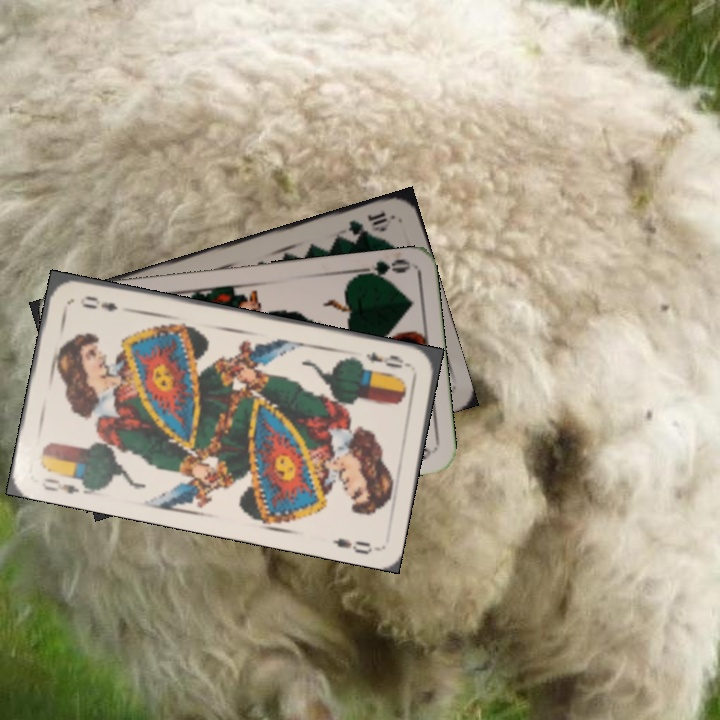EO: (37, 466, 93, 497), (362, 347, 414, 371)
G10: (344, 207, 390, 238)
GO: (351, 254, 411, 284)
